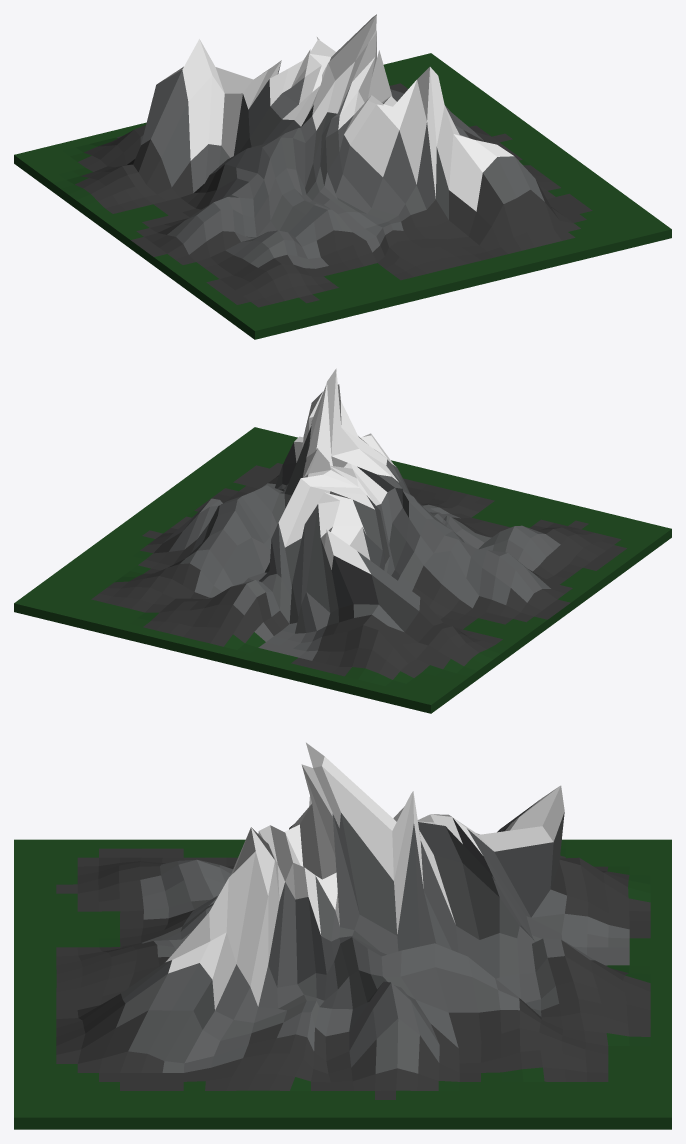
The model's file is tile_mountain_1.fbx.
3 renders of one model, top to bottom at view 1: azimuth 30°, elevation 25°; view 2: azimuth 150°, elevation 25°; view 3: azimuth 270°, elevation 25°, orthographic. The views are drawn at different scales.
Parts seen in each view (by area): view 1: Cube; view 2: Cube; view 3: Cube.
Boxes of the visible parts, bbox=[...] form: Cube: bbox=[14, 14, 671, 339]; Cube: bbox=[14, 368, 671, 713]; Cube: bbox=[14, 742, 671, 1129].
Size of the model in its own units: 100 by 43.93 by 100.
